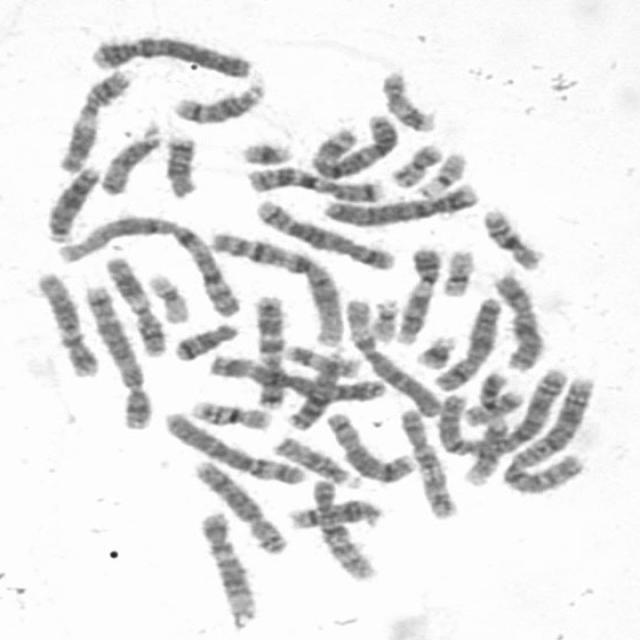A1: (51, 207, 247, 319), (201, 224, 348, 348)
A2: (428, 362, 572, 458), (495, 366, 598, 496)
A3: (201, 346, 390, 404), (303, 106, 402, 181)
B4: (313, 175, 482, 228), (83, 28, 255, 79)
B5: (248, 192, 399, 271), (78, 278, 154, 431)
C10: (304, 472, 379, 583), (391, 402, 460, 521)
C11: (50, 61, 136, 174), (100, 250, 169, 358)
C12: (28, 265, 102, 378), (192, 505, 261, 623)
C6: (337, 291, 447, 417), (156, 406, 310, 487)
C7: (238, 160, 386, 203), (247, 286, 289, 411)
C8: (185, 453, 290, 556), (318, 405, 419, 485)
C9: (456, 366, 514, 486), (388, 240, 444, 346)
D13: (279, 345, 351, 431), (39, 159, 104, 244)
D14: (164, 74, 268, 125), (281, 494, 386, 530)
D15: (265, 429, 366, 489), (92, 118, 164, 196)
E16: (476, 200, 548, 272), (184, 392, 275, 431)
E17: (374, 63, 440, 134), (278, 338, 364, 380)
E18: (166, 315, 241, 362), (157, 128, 201, 200)
F19: (141, 266, 192, 325), (434, 242, 478, 298)
F20: (384, 136, 446, 188), (458, 382, 527, 428)
G21: (408, 328, 461, 370), (233, 135, 296, 167)
G22: (408, 144, 471, 198), (366, 292, 401, 344)
X: (426, 291, 506, 393), (486, 266, 547, 372)
